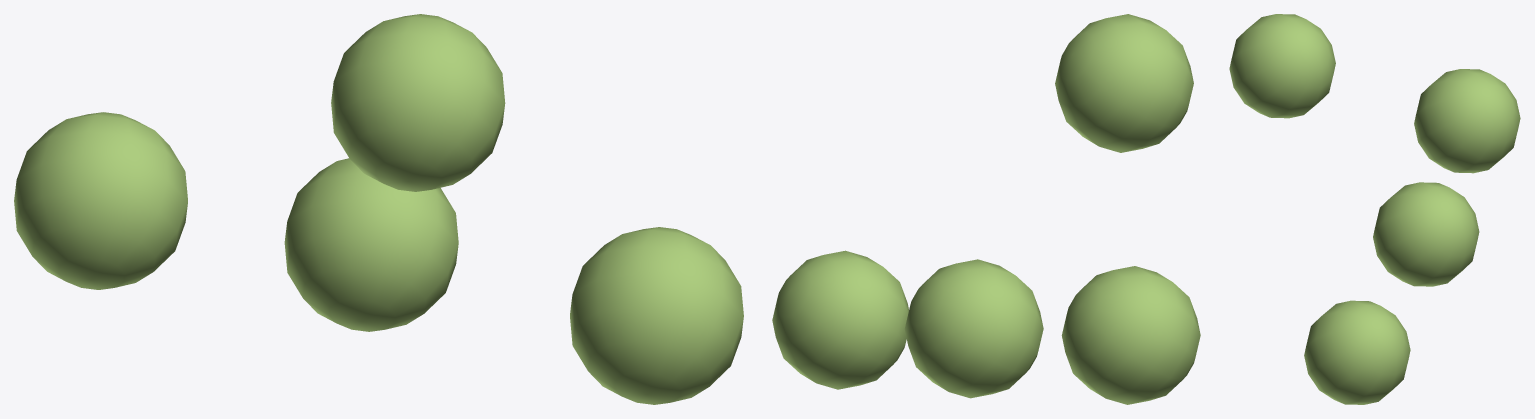
File: inferior-deep-lateral-cervical-nodes-r.glb
The picture shows the model from 3 angles, left to right: view 1: azimuth 30°, elevation 25°; view 2: azimuth 150°, elevation 25°; view 3: azimuth 270°, elevation 25°; orthographic projection. The views are drawn at different scales.
Visible parts, largest first — view 1: Inferior deep lateral cervical nodes.r; view 2: Inferior deep lateral cervical nodes.r; view 3: Inferior deep lateral cervical nodes.r.
Part boxes in pixels (bbox=[...]): Inferior deep lateral cervical nodes.r: bbox=[14, 14, 743, 404]; Inferior deep lateral cervical nodes.r: bbox=[772, 14, 1200, 404]; Inferior deep lateral cervical nodes.r: bbox=[1229, 14, 1520, 404].
Size of the model in its own units: 0.0104 by 0.00789 by 0.00707.
